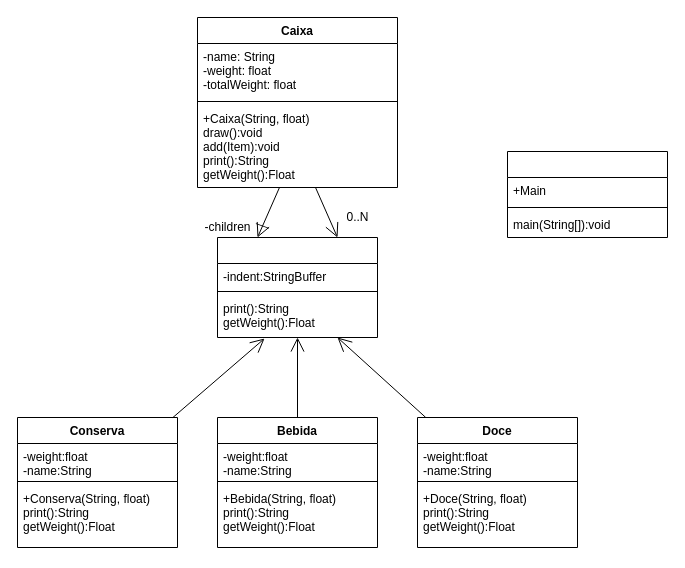
Image size: 685x568. Some labels were removed from this diagram. The box of each missing label's shape, as (x1, y1, x2, y2) in pixels:
Cabazes: (506, 150, 668, 238)
Item: (216, 236, 378, 338)
